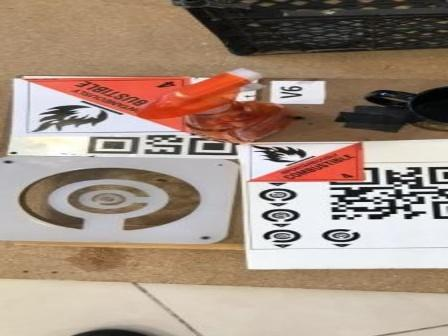spontaneously-combustible: (8, 75, 206, 138), (240, 141, 363, 181)
